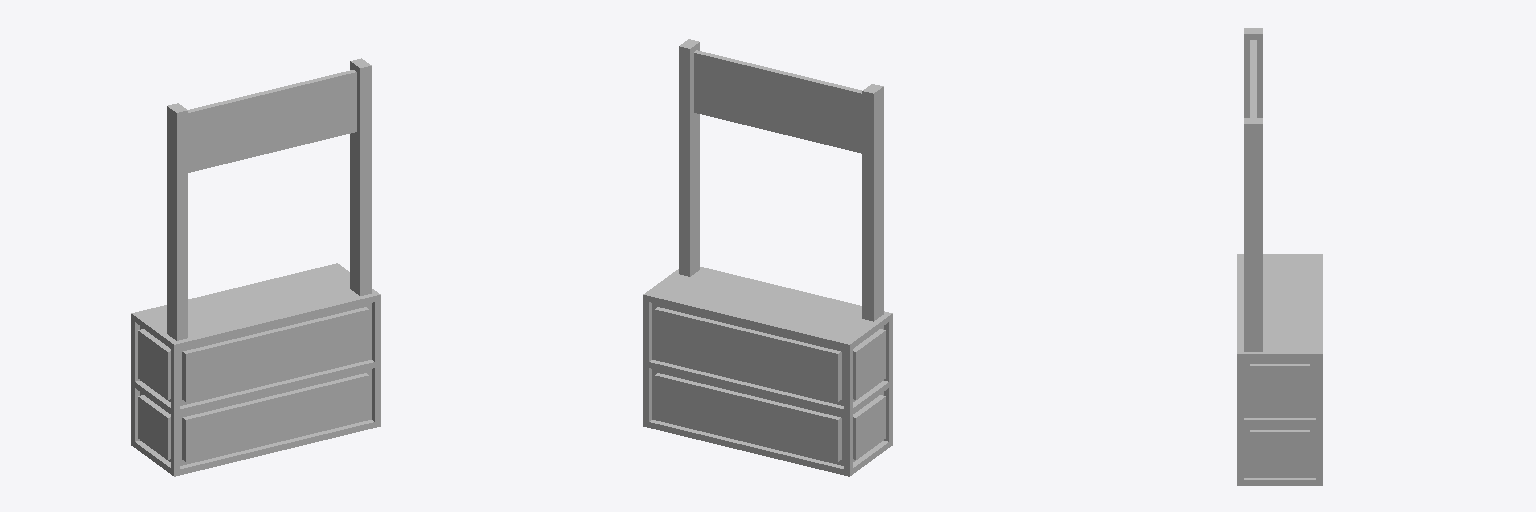
Rendered from tenda.obj.
3 renders of one model, left to right at view 1: azimuth 30°, elevation 25°; view 2: azimuth 150°, elevation 25°; view 3: azimuth 270°, elevation 25°, orthographic.
Parts seen in each view (by area): view 1: tenda; view 2: tenda; view 3: tenda.
Part boxes in pixels (x1,y1,x2,y2): tenda: (131,58,380,476); tenda: (643,39,892,476); tenda: (1237,28,1322,485).
Size of the model in its own units: 36 by 60 by 13.